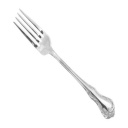Fork: (6, 6, 123, 119)
